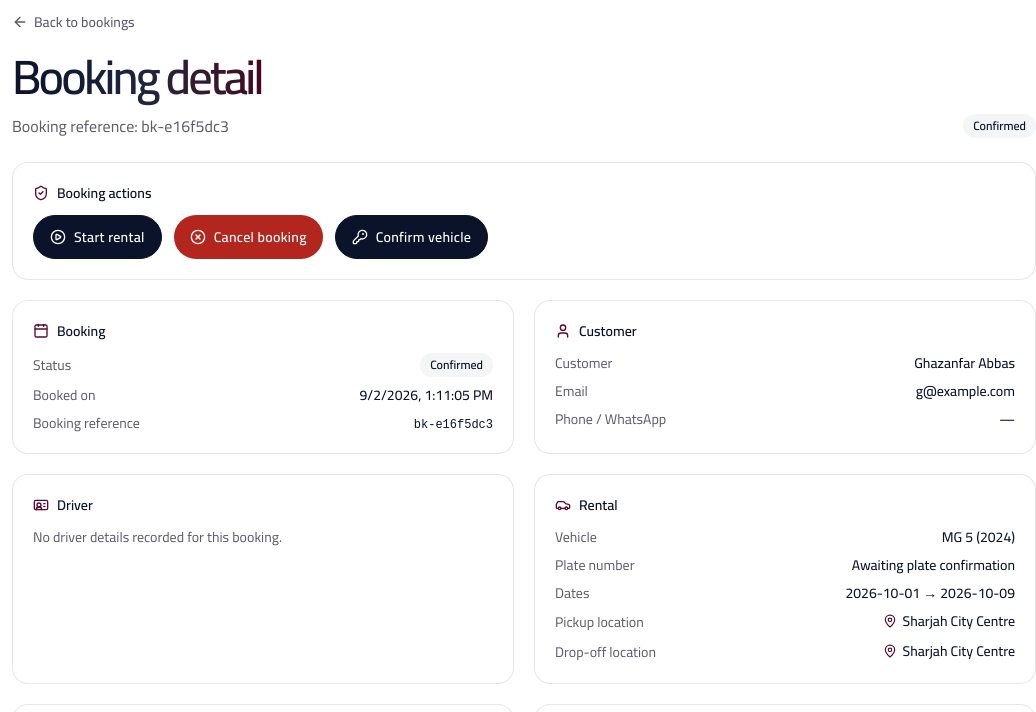
Test: BookingDetailPage — Phase 14 Confirm Vehicle action › shows the existing-vehicle-reused result banner when is_new_physical_vehicle is false
This screenshot has width=1036, height=712.
Click the button "Confirm vehicle". click: (412, 237)
box: [335,215,488,259]
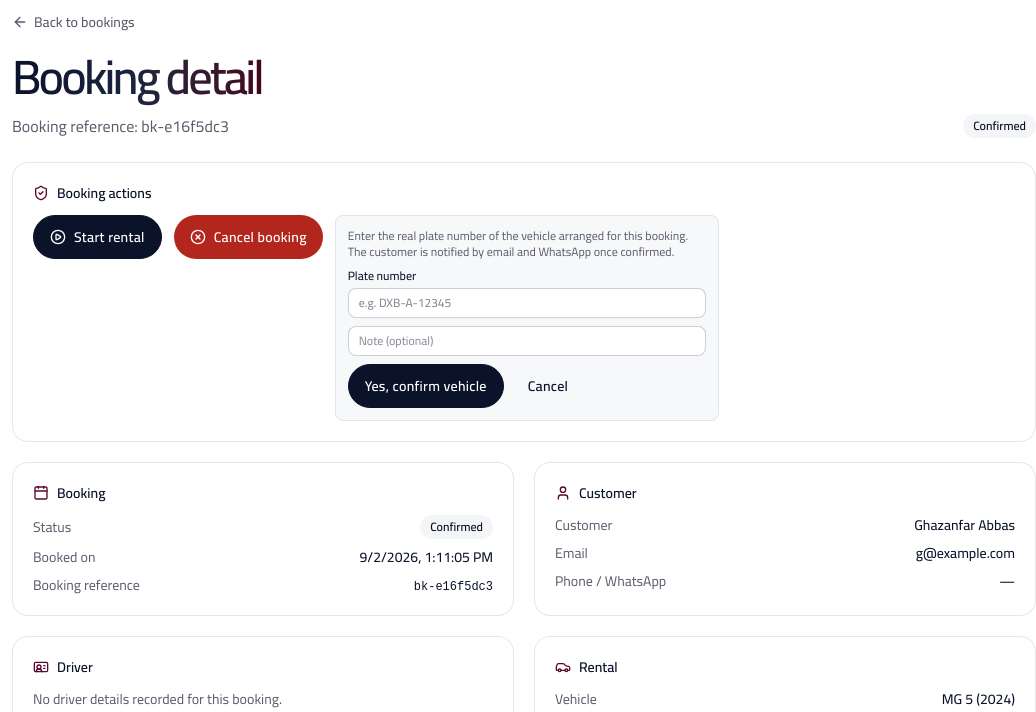
Type "DXB-A-99999" into the field with placeholder "e.g. DXB-A-12345". click: (527, 303)
box: [348,288,706,318]
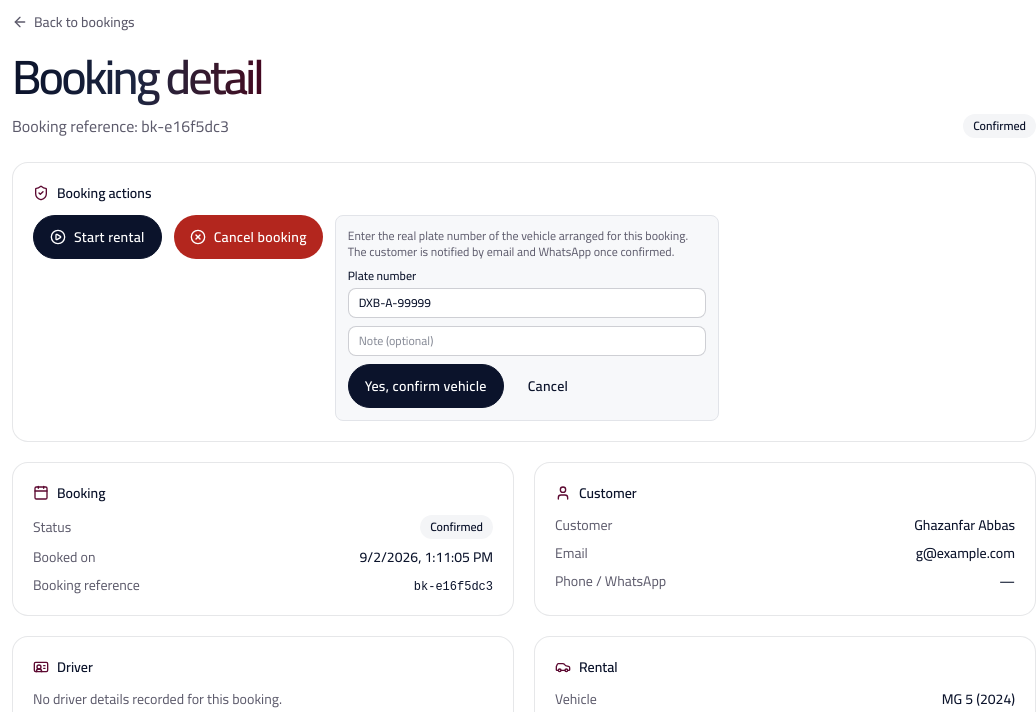
Click the button "Yes, confirm vehicle". click: (426, 386)
box: [348,364,504,408]
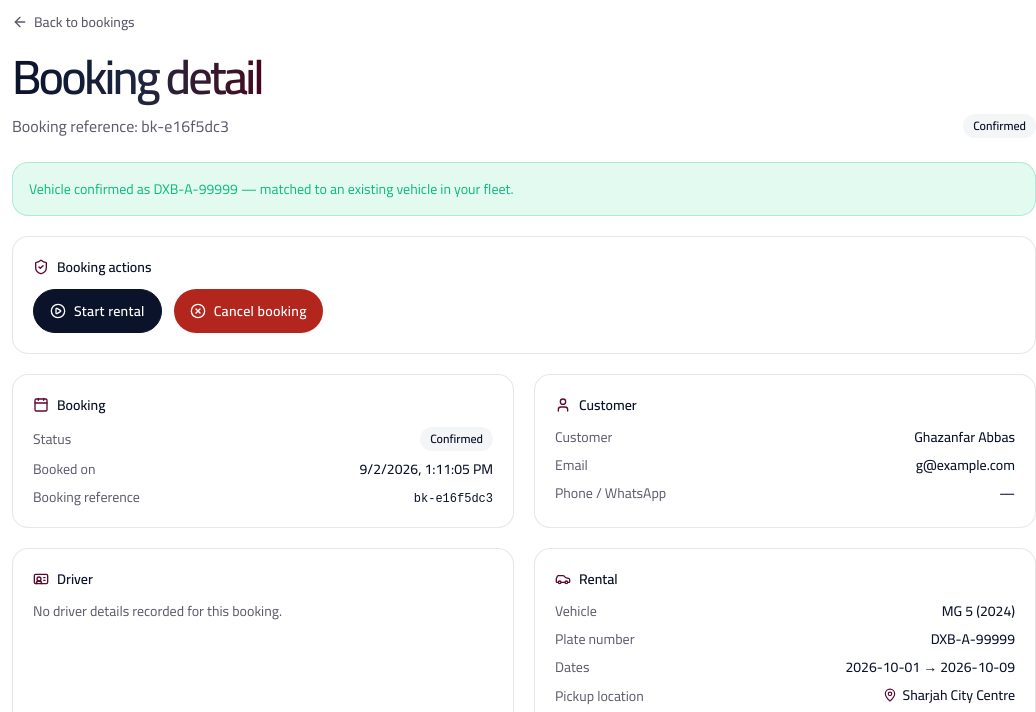
expect the text "matched to an existing vehicle in your fleet" is shown: met, box [29,176,514,202]
